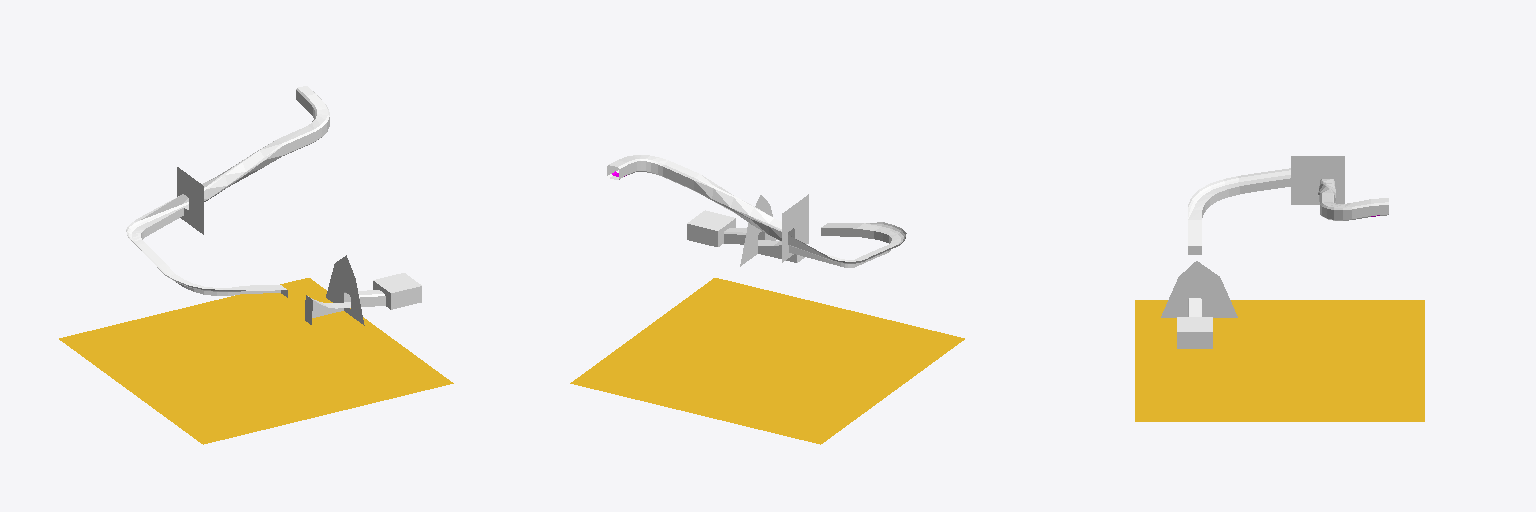
The model's file is Tall Tall Mountain Area 4.obj.
3 views of the same model, side by side, from view 1: azimuth 30°, elevation 25°; view 2: azimuth 150°, elevation 25°; view 3: azimuth 270°, elevation 25° (orthographic).
Size of the model in its own units: 32766 by 26214 by 32766.